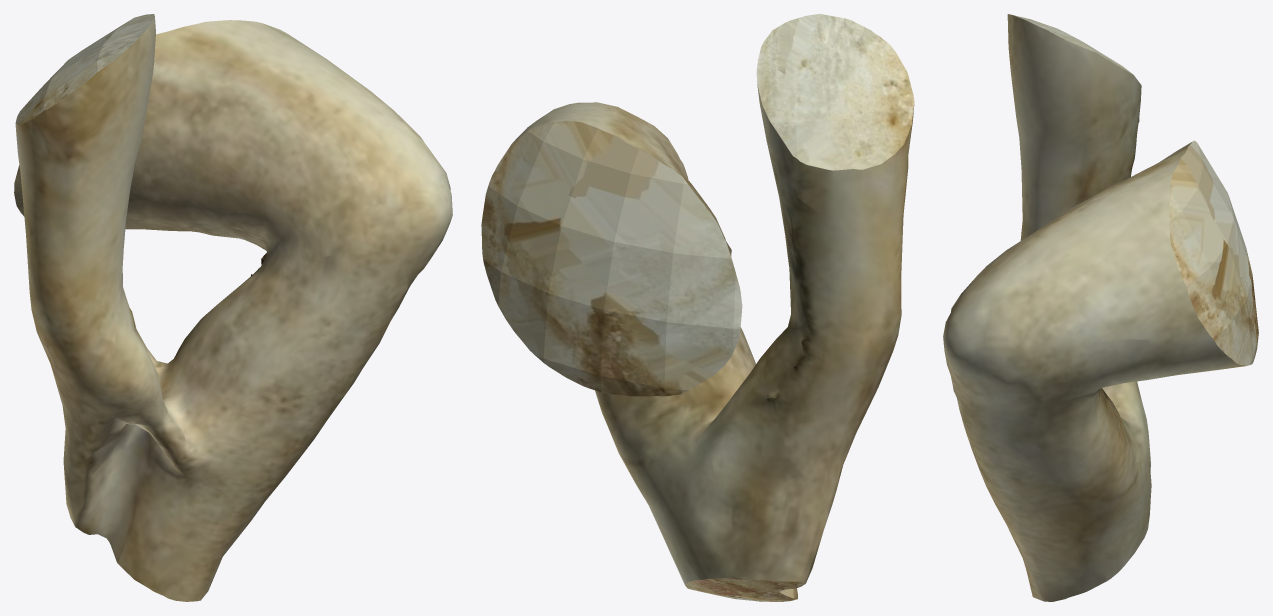
3 views of the same model, side by side, from view 1: azimuth 30°, elevation 25°; view 2: azimuth 150°, elevation 25°; view 3: azimuth 270°, elevation 25° (orthographic). The views are drawn at different scales.
Parts seen in each view (by area): view 1: Mesh_0.001; view 2: Mesh_0.001; view 3: Mesh_0.001.
Part boxes in pixels (<box>): Mesh_0.001: <box>14,14,452,601</box>; Mesh_0.001: <box>481,14,914,601</box>; Mesh_0.001: <box>943,14,1258,601</box>.
Bounding box in the file's own units: 0.0472 × 0.0684 × 0.0355.
1 material, 1 textured.
